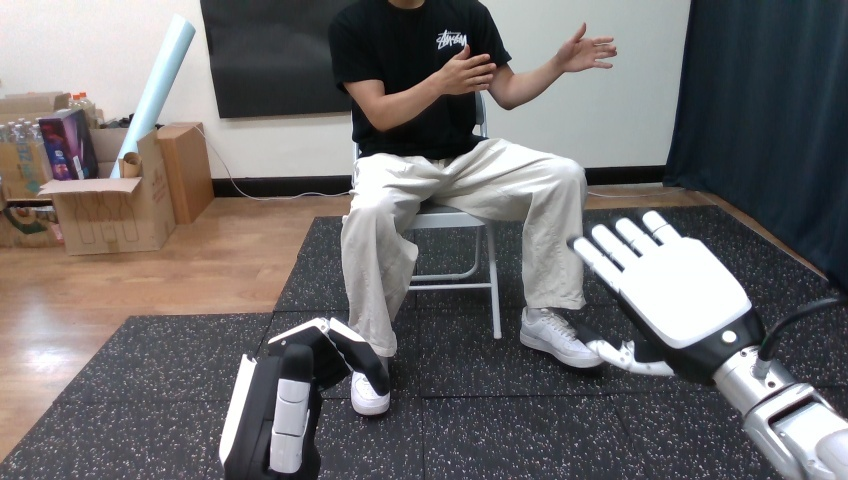left robot hand: (572, 210, 847, 479), (554, 23, 616, 71)
